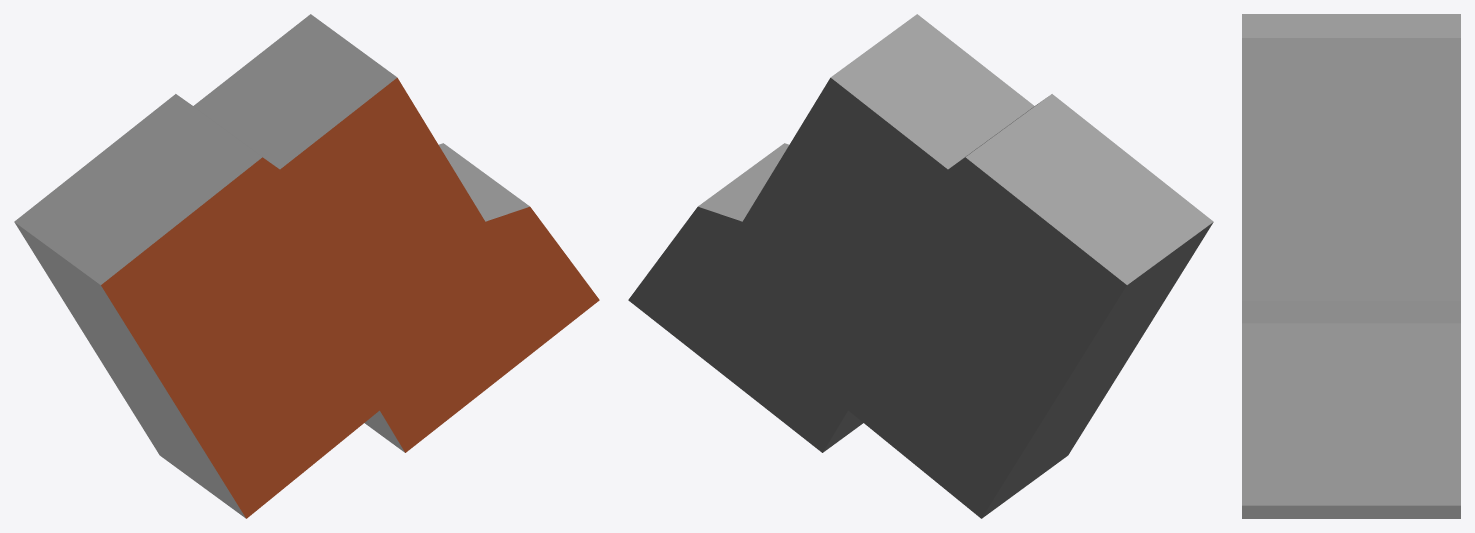
File: construction_5257_assumed_A_Casa_h6m.obj
The picture shows the model from 3 angles, left to right: view 1: azimuth 30°, elevation 25°; view 2: azimuth 150°, elevation 25°; view 3: azimuth 270°, elevation 25°; orthographic projection. The views are drawn at different scales.
Parts seen in each view (by area): view 1: construction_5257_assumed_A_Casa; view 2: construction_5257_assumed_A_Casa; view 3: construction_5257_assumed_A_Casa.
Boxes of the visible parts, left/top/right/bottom form: construction_5257_assumed_A_Casa: left=14, top=14, right=599, bottom=518; construction_5257_assumed_A_Casa: left=628, top=14, right=1213, bottom=518; construction_5257_assumed_A_Casa: left=1242, top=14, right=1460, bottom=518.
Bounding box in the file's own units: 19.93 × 15.44 × 6.
